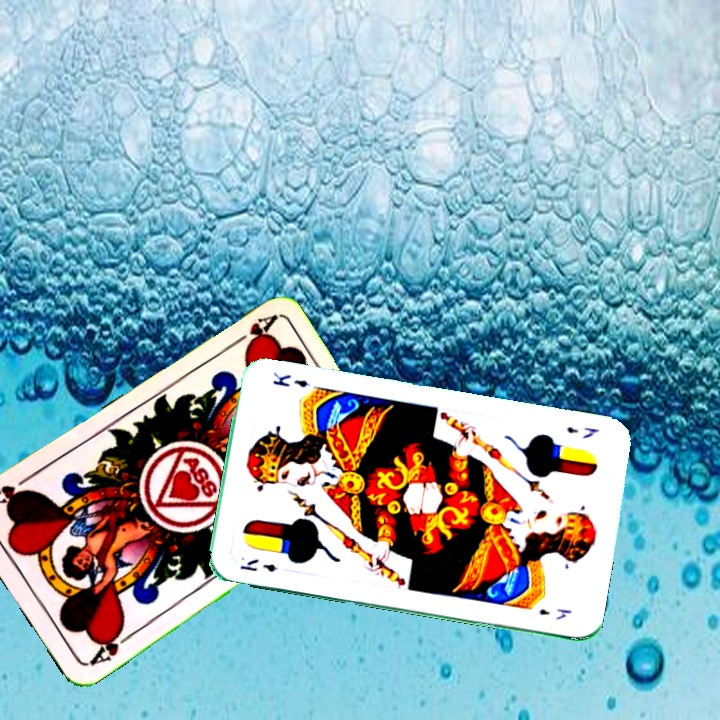EK: (235, 554, 279, 575), (562, 422, 602, 441)
HA: (84, 622, 136, 668), (224, 311, 278, 354)
